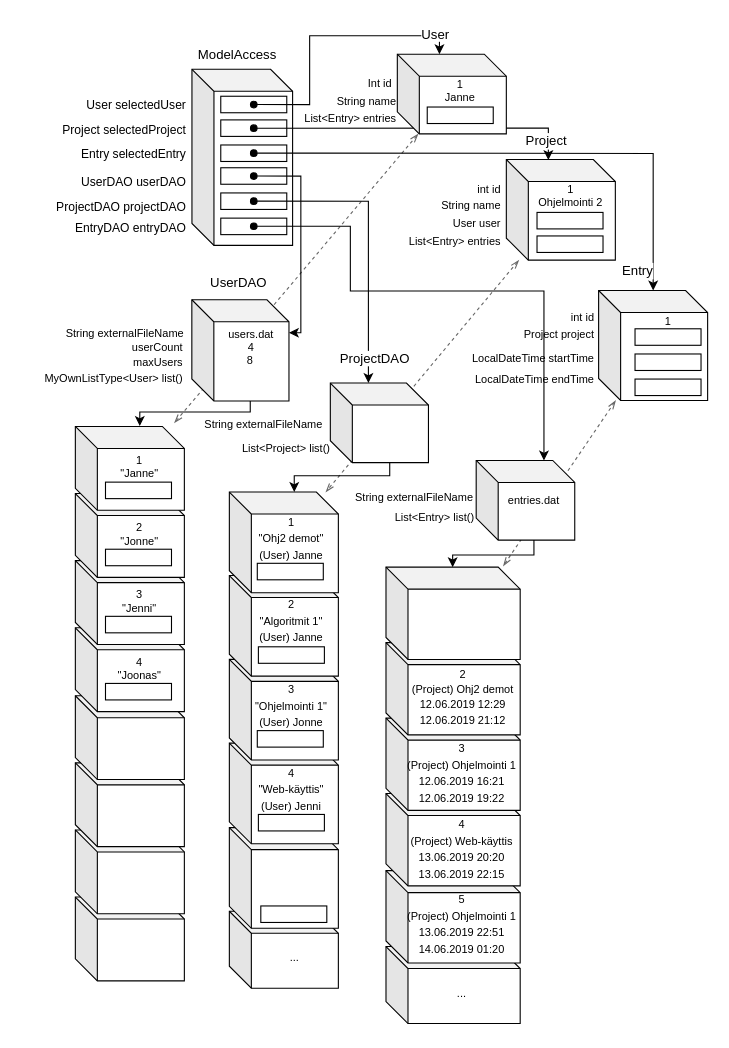
The diagram is 729 pixels wide and 1048 high, and some of its shapes have lost their labels. The shapes that lost their labels are listed below. From the top down, each one's box as (x1, y1, x2, y2) in pixels, then its label:
(329, 382, 428, 463): projects.dat
(385, 566, 520, 659): 1 (Project) Ohj2 demot 11.06.2019 21:30 11.06.2019 22:45
(228, 827, 338, 928): 5 "Ohj2 harjoitustyö" (User) Janne
